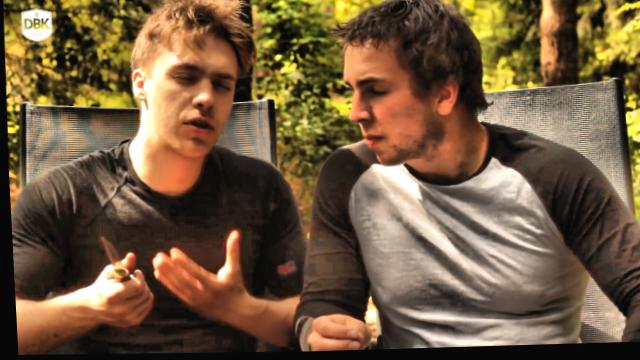knife: (83, 230, 150, 310)
